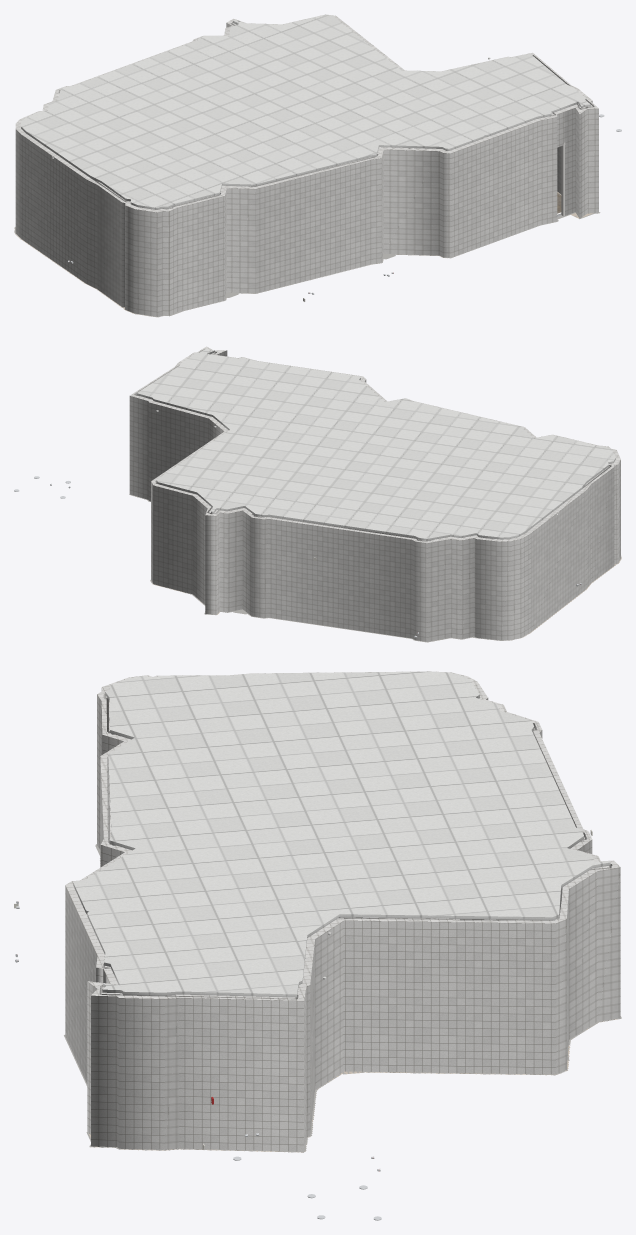
The model's file is cocina_alta_01321c3d71c4.glb.
3 renders of one model, top to bottom at view 1: azimuth 30°, elevation 25°; view 2: azimuth 150°, elevation 25°; view 3: azimuth 270°, elevation 25°, orthographic. The views are drawn at different scales.
Visible parts, largest first — view 1: Z_cocina_tile_w, Z_cocina_ceil, WALL_FOOTPRINT_LINE; view 2: Z_cocina_tile_w, Z_cocina_ceil, WALL_FOOTPRINT_LINE; view 3: Z_cocina_ceil, Z_cocina_tile_w, WALL_FOOTPRINT_LINE.
Boxes of the visible parts, bbox=[...] form: Z_cocina_tile_w: bbox=[15, 14, 598, 316]; Z_cocina_ceil: bbox=[21, 15, 590, 209]; WALL_FOOTPRINT_LINE: bbox=[14, 192, 600, 317]; Z_cocina_tile_w: bbox=[129, 346, 620, 641]; Z_cocina_ceil: bbox=[136, 348, 615, 540]; WALL_FOOTPRINT_LINE: bbox=[129, 494, 621, 642]; Z_cocina_ceil: bbox=[73, 671, 610, 997]; Z_cocina_tile_w: bbox=[65, 671, 620, 1152]; WALL_FOOTPRINT_LINE: bbox=[64, 844, 621, 1152].
Bounding box in the file's own units: 17 × 3.08 × 10.91.
39 materials, 7 textured.
